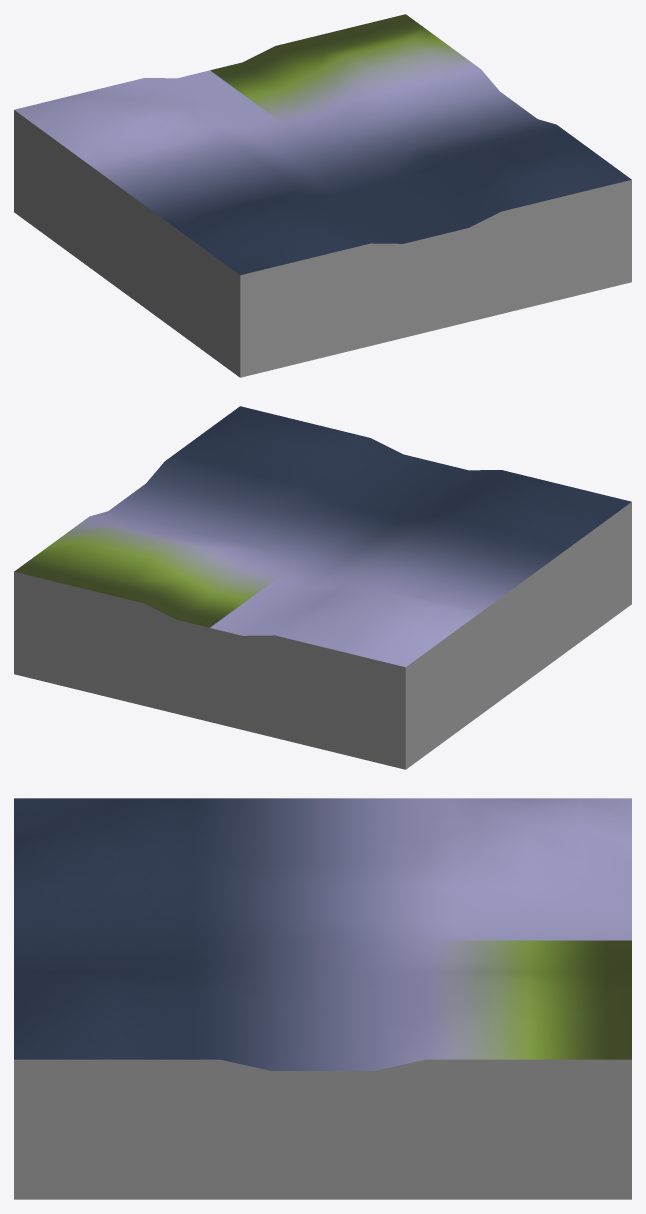
The model's file is PathHillT.fbx.
The picture shows the model from 3 angles, top to bottom: view 1: azimuth 30°, elevation 25°; view 2: azimuth 150°, elevation 25°; view 3: azimuth 270°, elevation 25°; orthographic projection. The views are drawn at different scales.
Visible parts, largest first — view 1: PathHillT; view 2: PathHillT; view 3: PathHillT.
Part boxes in pixels (left/top/right/bottom): PathHillT: left=14, top=14, right=631, bottom=377; PathHillT: left=14, top=406, right=631, bottom=769; PathHillT: left=14, top=798, right=631, bottom=1199.
Bounding box in the file's own units: 1200 × 329 × 1200.
